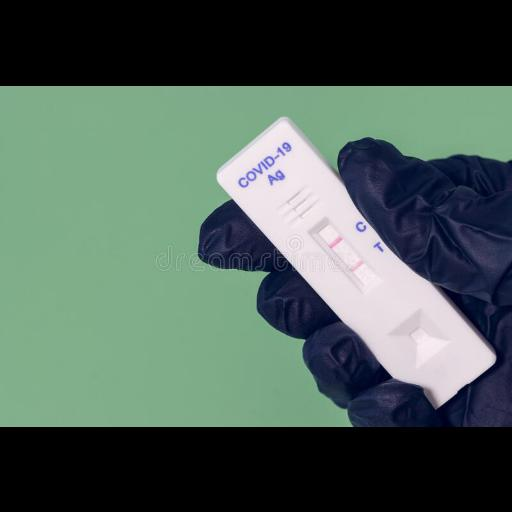Pos: (217, 117, 499, 412)
